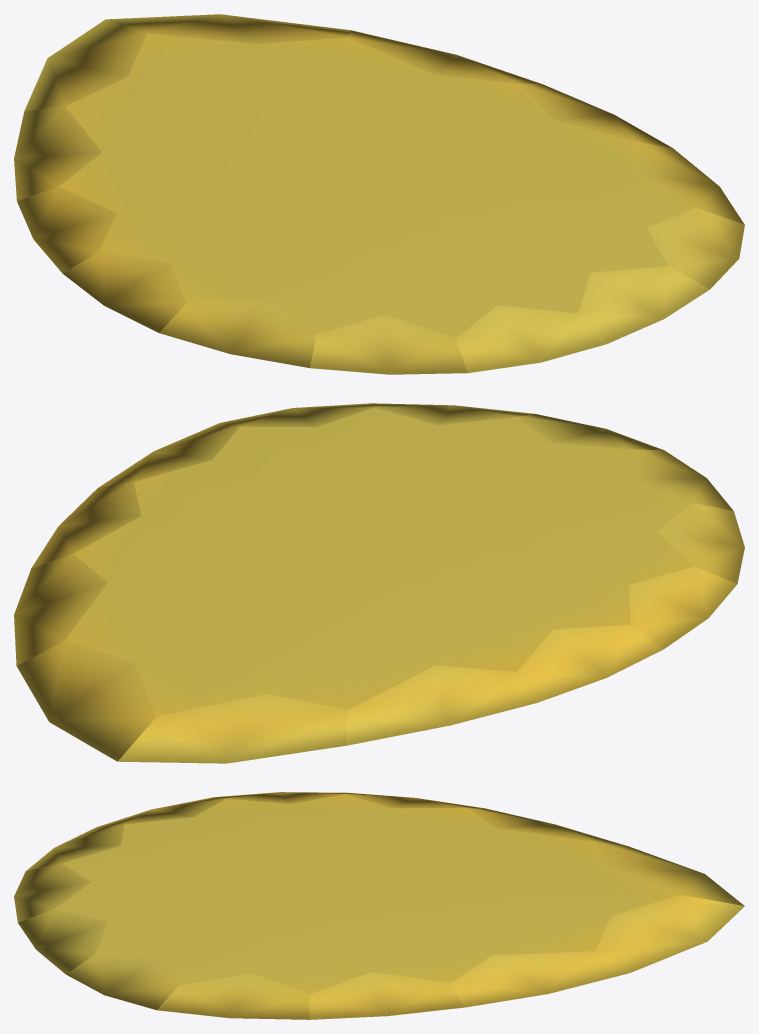
The picture shows the model from 3 angles, top to bottom: view 1: azimuth 30°, elevation 25°; view 2: azimuth 150°, elevation 25°; view 3: azimuth 270°, elevation 25°; orthographic projection. The views are drawn at different scales.
Visible parts, largest first — view 1: Line002; view 2: Line002; view 3: Line002.
Boxes of the visible parts, left/top/right/bottom form: Line002: left=14, top=14, right=744, bottom=374; Line002: left=14, top=403, right=744, bottom=763; Line002: left=14, top=792, right=744, bottom=1019.
Bounding box in the file's own units: 14.25 × 1.26 × 19.33.
Materials: 1 (1 with a texture image).
